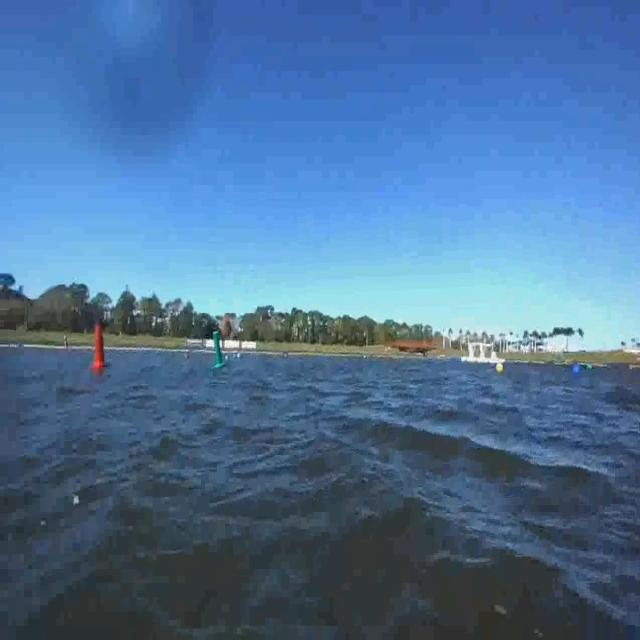green-column-buoy: (207, 326, 227, 376)
red-column-buoy: (88, 320, 108, 381)
